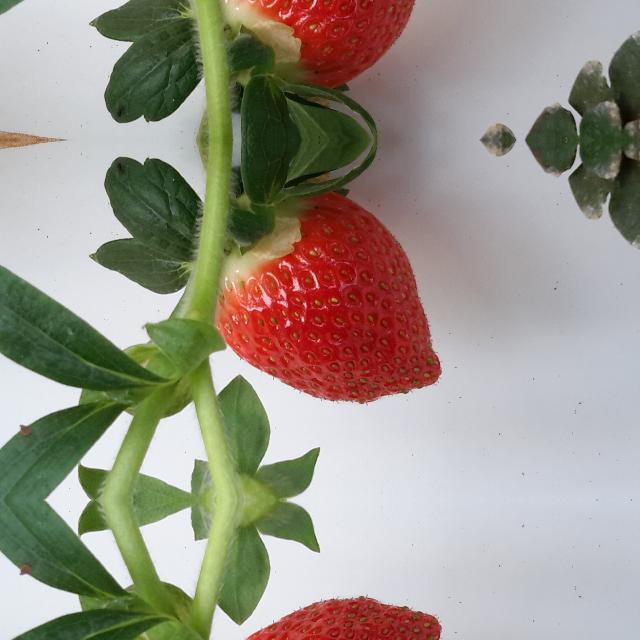Health_100: (213, 190, 441, 404), (213, 0, 441, 89), (213, 596, 441, 640)
